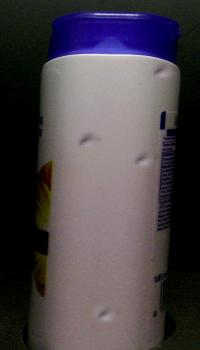dent_unacceptable: (74, 126, 107, 151), (93, 304, 123, 326), (129, 151, 157, 170), (150, 65, 173, 80)
